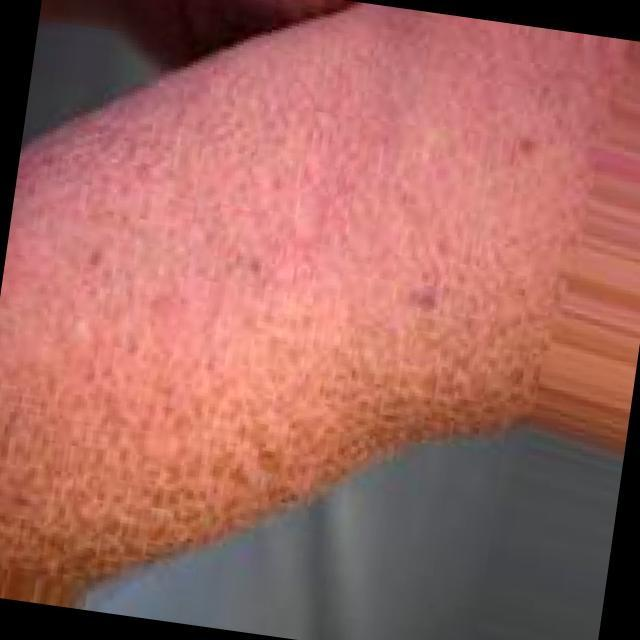Eczema: (22, 46, 538, 514)
